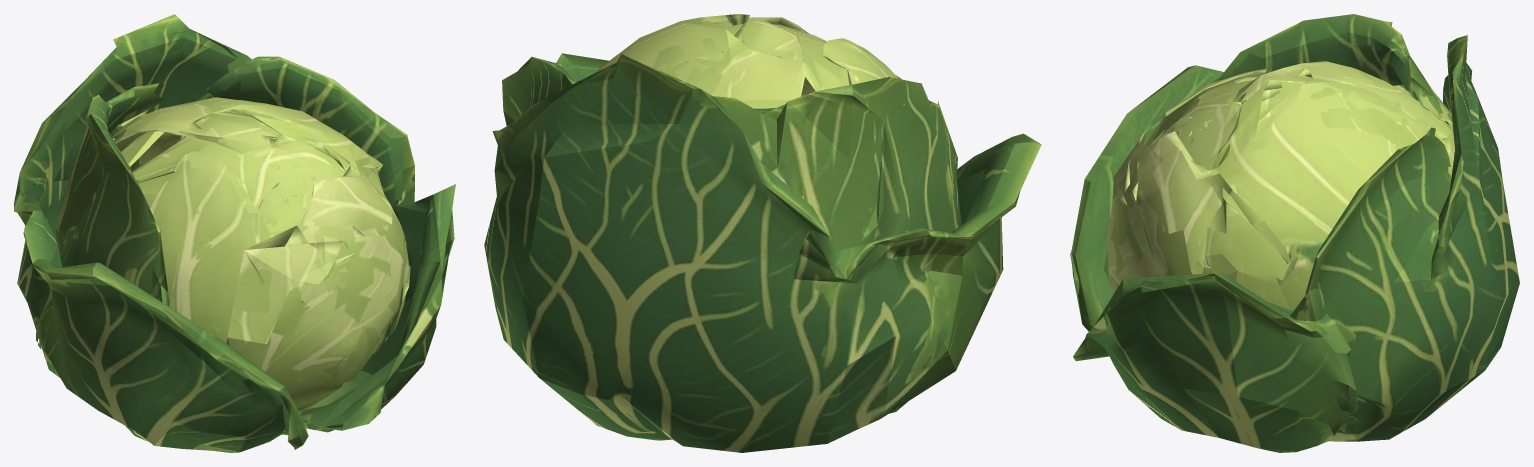
Rendered from lahana.glb.
The picture shows the model from 3 angles, left to right: view 1: azimuth 30°, elevation 25°; view 2: azimuth 150°, elevation 25°; view 3: azimuth 270°, elevation 25°; orthographic projection. The views are drawn at different scales.
Parts seen in each view (by area): view 1: Mesh0; view 2: Mesh0; view 3: Mesh0.
Boxes of the visible parts, x1,y1,x2,y2 form: Mesh0: (14,14,455,452); Mesh0: (484,14,1041,452); Mesh0: (1070,14,1519,452).
Bounding box in the file's own units: 1.82 × 1.63 × 1.69.
1 material, 1 textured.
